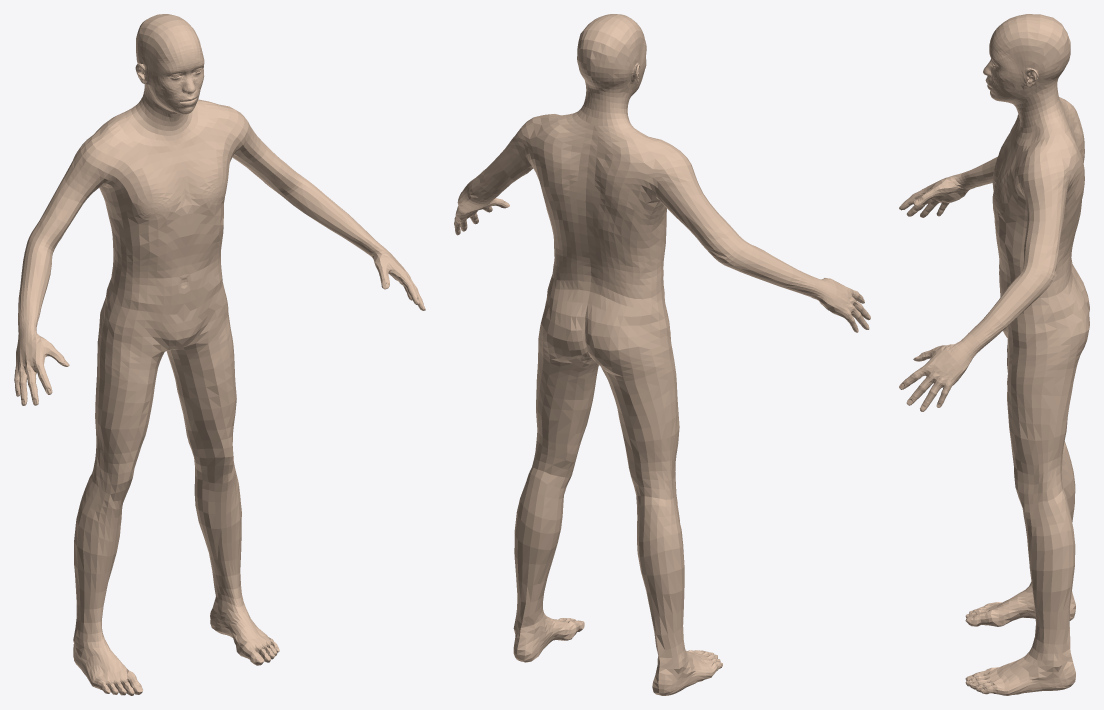
The model's file is male-young-fit-toned.glb.
3 renders of one model, left to right at view 1: azimuth 30°, elevation 25°; view 2: azimuth 150°, elevation 25°; view 3: azimuth 270°, elevation 25°, orthographic.
Visible parts, largest first — view 1: world; view 2: world; view 3: world.
Part boxes in pixels (<box>): world: <box>14,14,425,695</box>; world: <box>454,14,870,695</box>; world: <box>899,14,1089,695</box>.
Size of the model in its own units: 1.24 by 1.89 by 0.5124.
